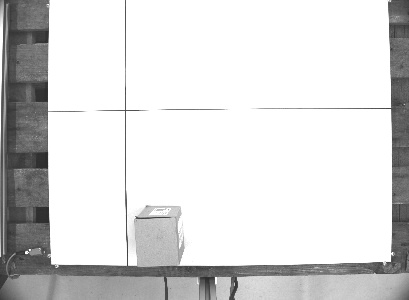b5: (132, 203, 185, 268)
